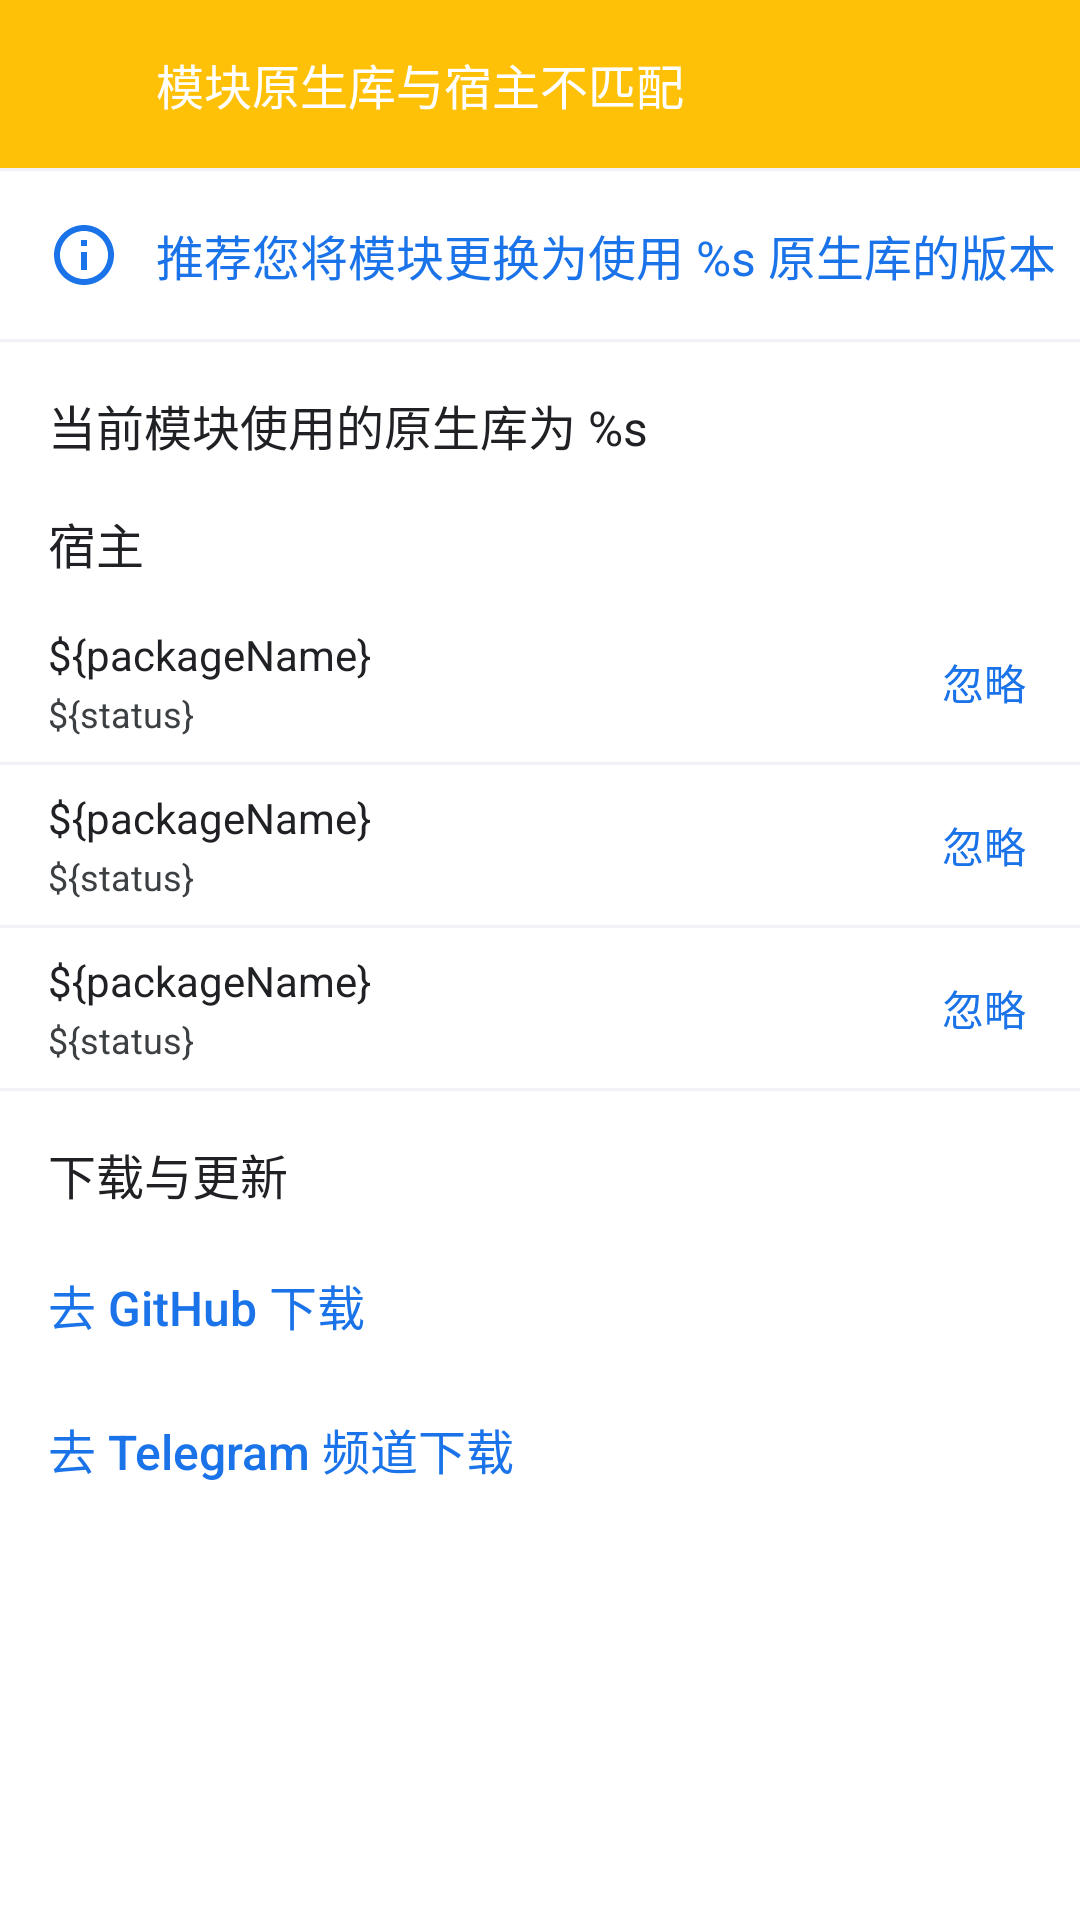

Icon click points for this 1080x1920 phone screenshot, format (x,y):
info: (84,255)
